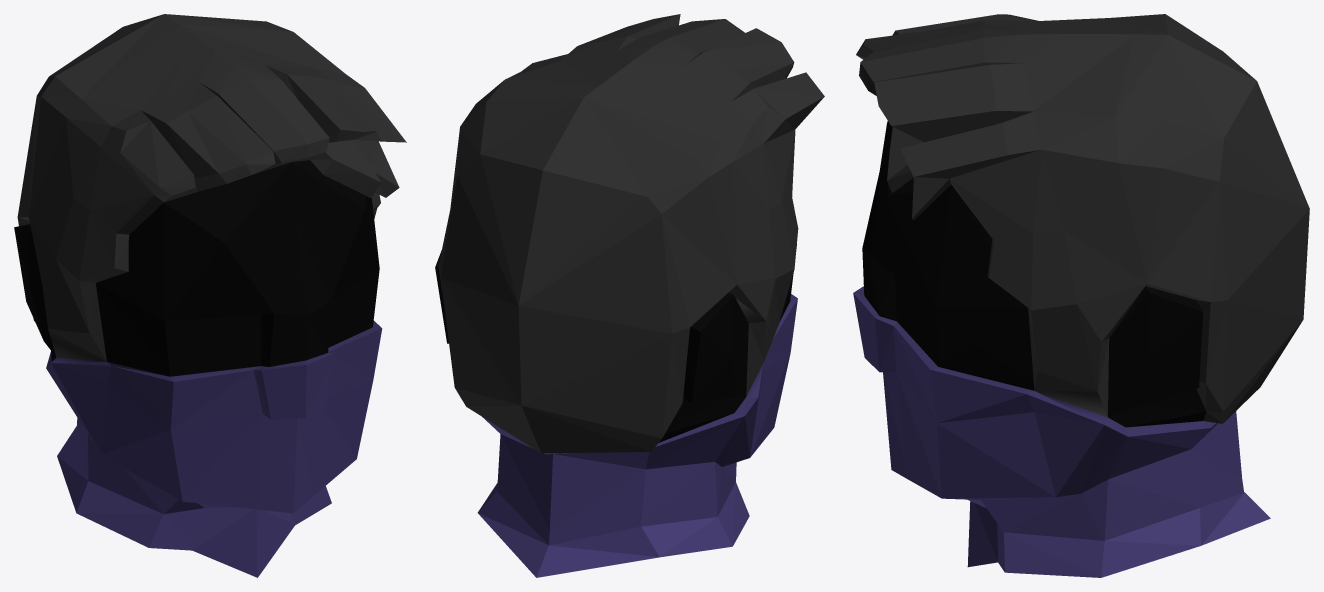
The model's file is RogueHead.dae.
3 renders of one model, left to right at view 1: azimuth 30°, elevation 25°; view 2: azimuth 150°, elevation 25°; view 3: azimuth 270°, elevation 25°, orthographic. The views are drawn at different scales.
Parts seen in each view (by area): view 1: Head; view 2: Head; view 3: Head.
Part boxes in pixels (x1,y1,x2,y2): Head: (14, 14, 406, 577); Head: (435, 14, 824, 577); Head: (853, 14, 1309, 577).
Bounding box in the file's own units: 1.34 × 1.62 × 2.08.
